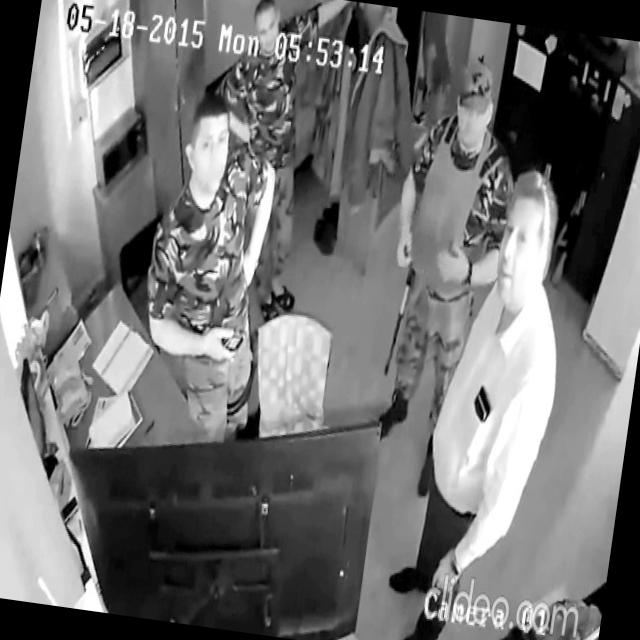gun: (544, 136, 603, 294), (383, 260, 418, 378)
person: (377, 154, 586, 640), (124, 85, 294, 448), (183, 0, 351, 327)
person with a gun: (358, 51, 534, 507)
